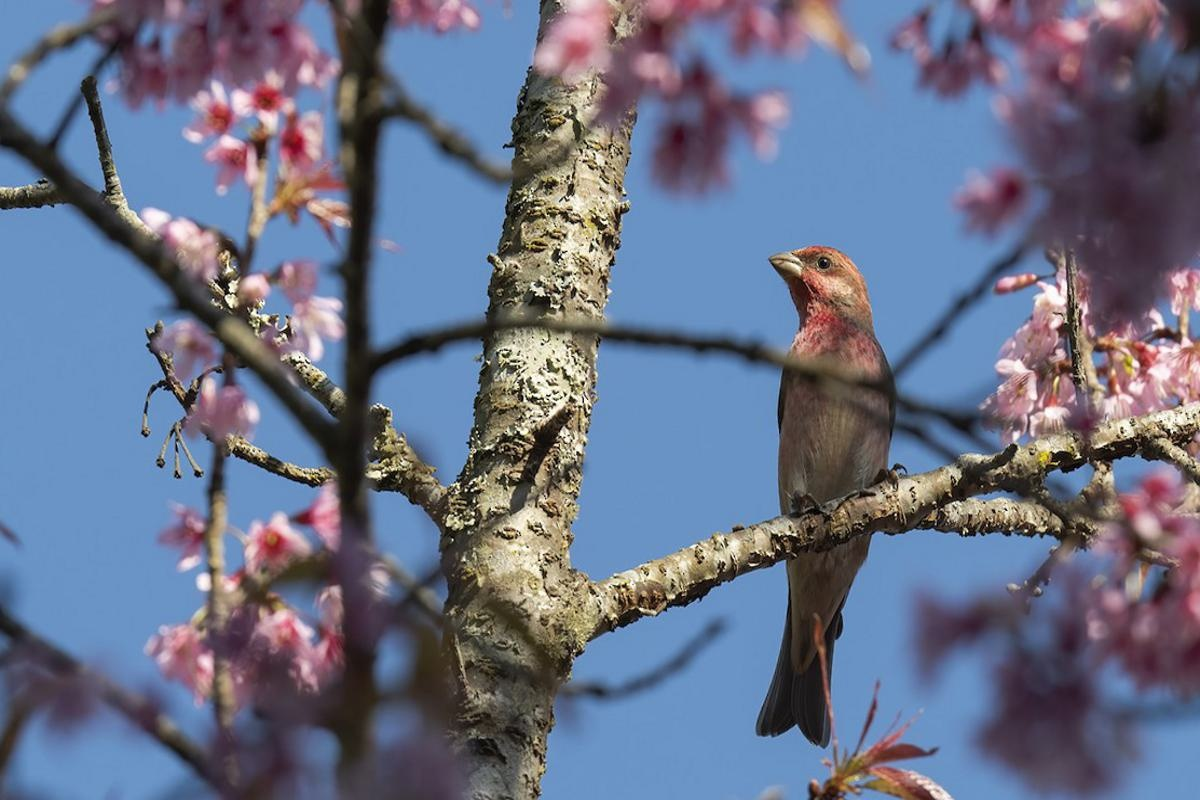rosefinch: (728, 192, 894, 726)
